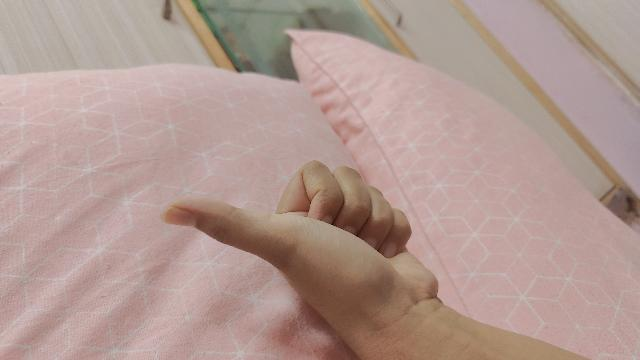shikhar: (163, 162, 590, 360)
